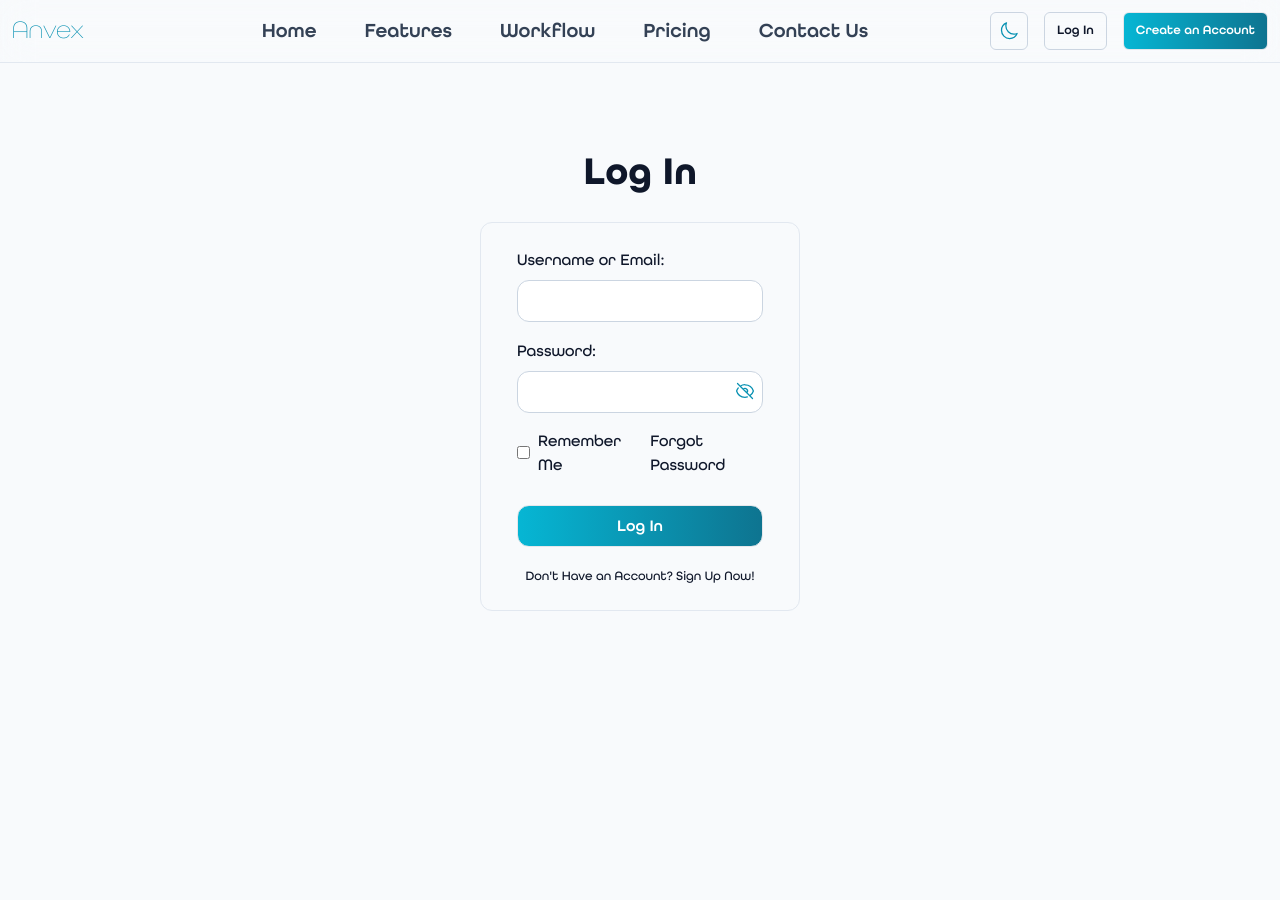
the form › links onward with <Link>, so following one keeps the in-memory access token
Expected: the element with test id "route-login" is shown, [480,148,800,611]
Click the link "Don't Have an Account? Sign Up Now!" at (640, 576), box [526,568,755,584]
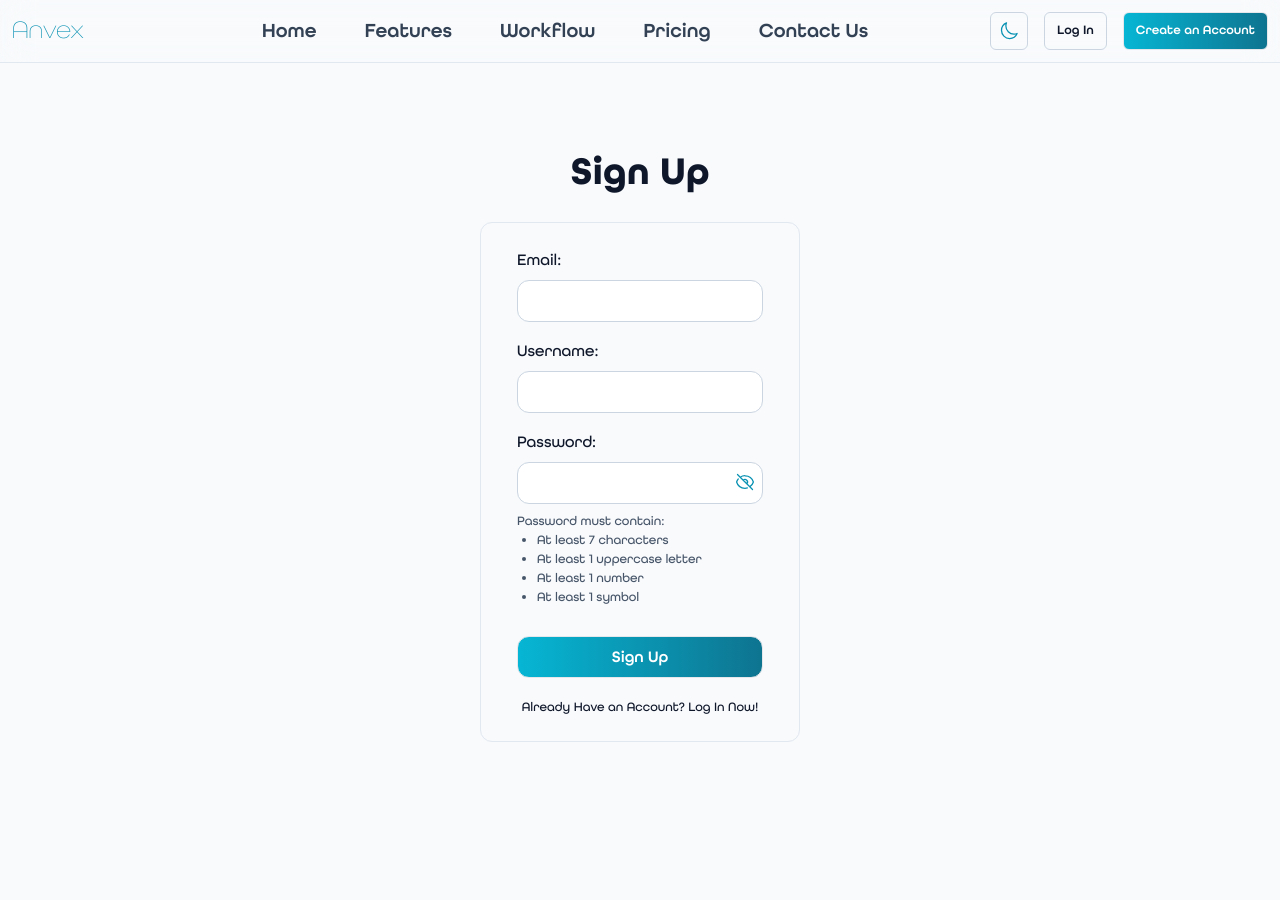
Expected: the element with test id "route-sign-up" is shown, [480,148,800,742]
